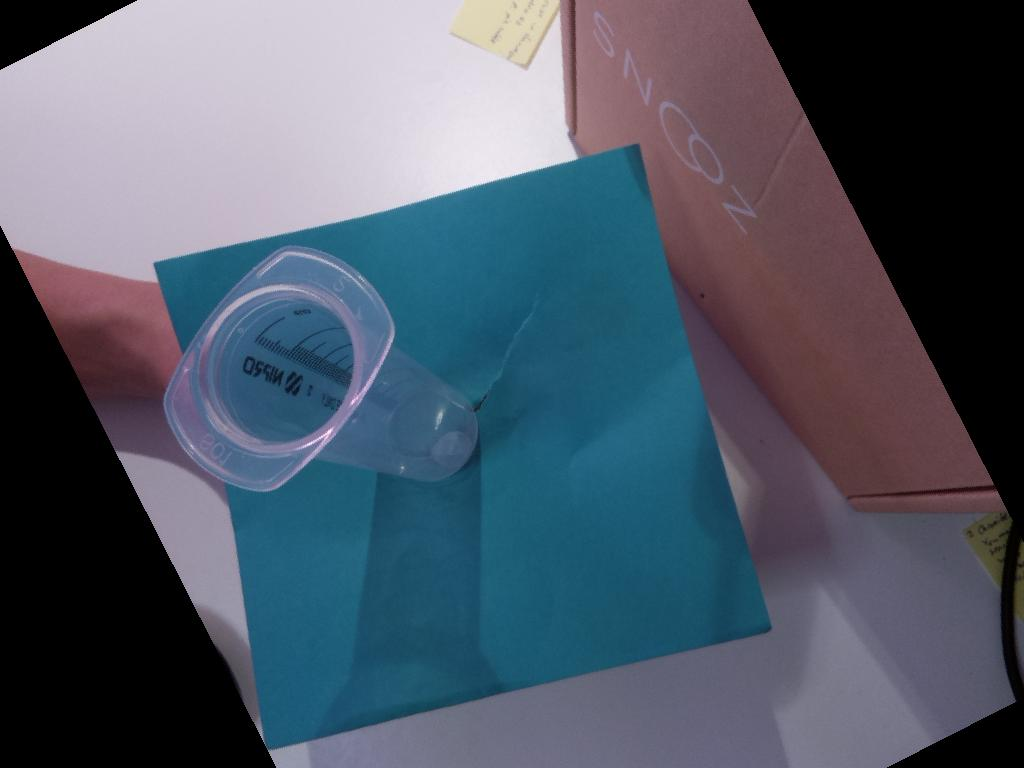clean: (164, 244, 392, 496)
